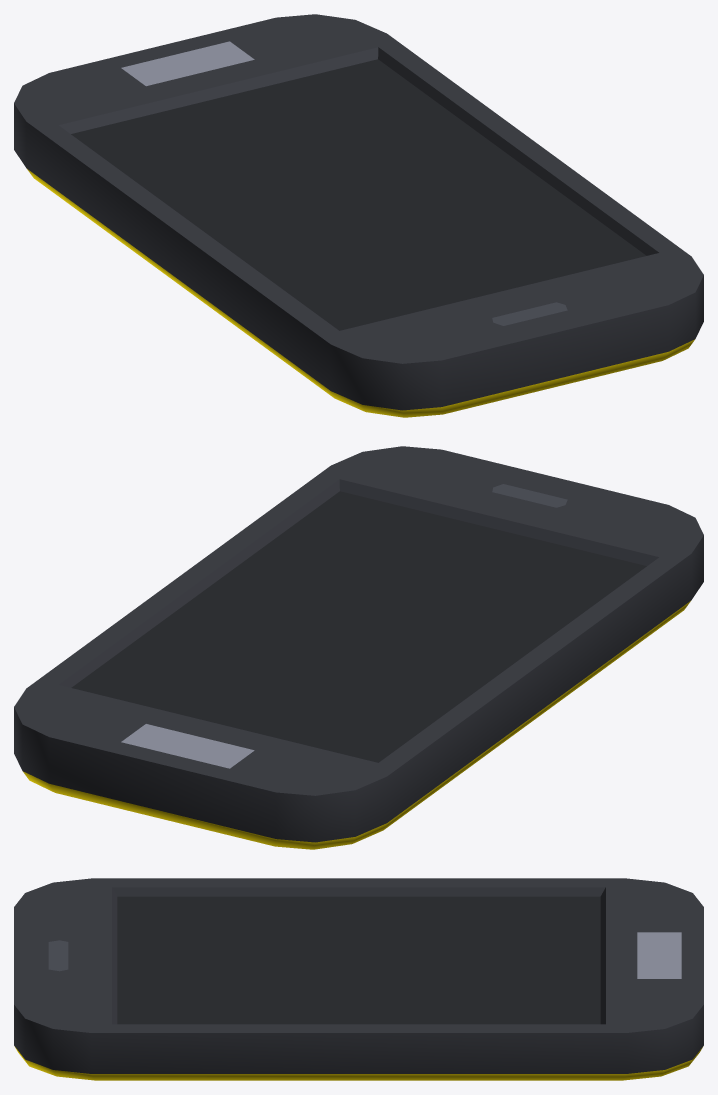
Rendered from NF_Phone_02.fbx.
The picture shows the model from 3 angles, top to bottom: view 1: azimuth 30°, elevation 25°; view 2: azimuth 150°, elevation 25°; view 3: azimuth 270°, elevation 25°; orthographic projection. The views are drawn at different scales.
Visible parts, largest first — view 1: NF_Phone_02; view 2: NF_Phone_02; view 3: NF_Phone_02.
Boxes of the visible parts, x1=… form: NF_Phone_02: x1=14, y1=14, x2=703, y2=417; NF_Phone_02: x1=14, y1=446, x2=703, y2=849; NF_Phone_02: x1=14, y1=878, x2=703, y2=1080.
Bounding box in the file's own units: 0.1025 × 0.0171 × 0.1932.
